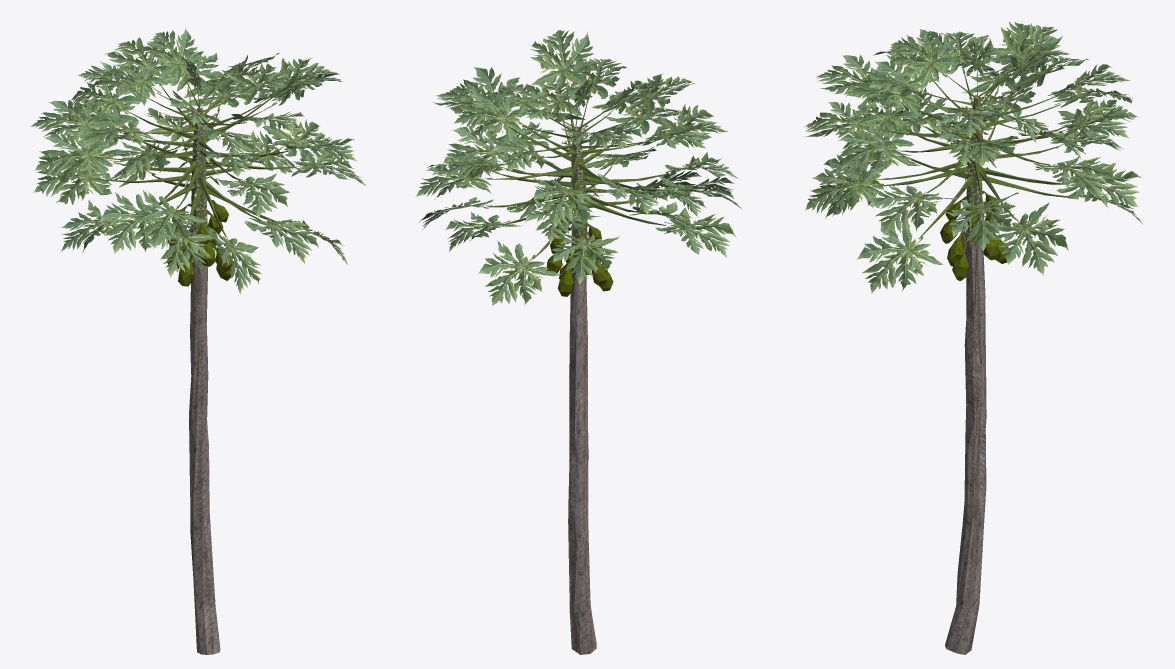
3 renders of one model, left to right at view 1: azimuth 30°, elevation 25°; view 2: azimuth 150°, elevation 25°; view 3: azimuth 270°, elevation 25°, orthographic. The views are drawn at different scales.
Parts seen in each view (by area): view 1: FR01m; view 2: FR01m; view 3: FR01m.
Boxes of the visible parts, x1,y1,x2,y2 form: FR01m: [30, 28, 366, 654]; FR01m: [415, 30, 741, 654]; FR01m: [803, 21, 1142, 654].
Bounding box in the file's own units: 2.83 × 5.31 × 2.93.
7 materials, 7 textured.
